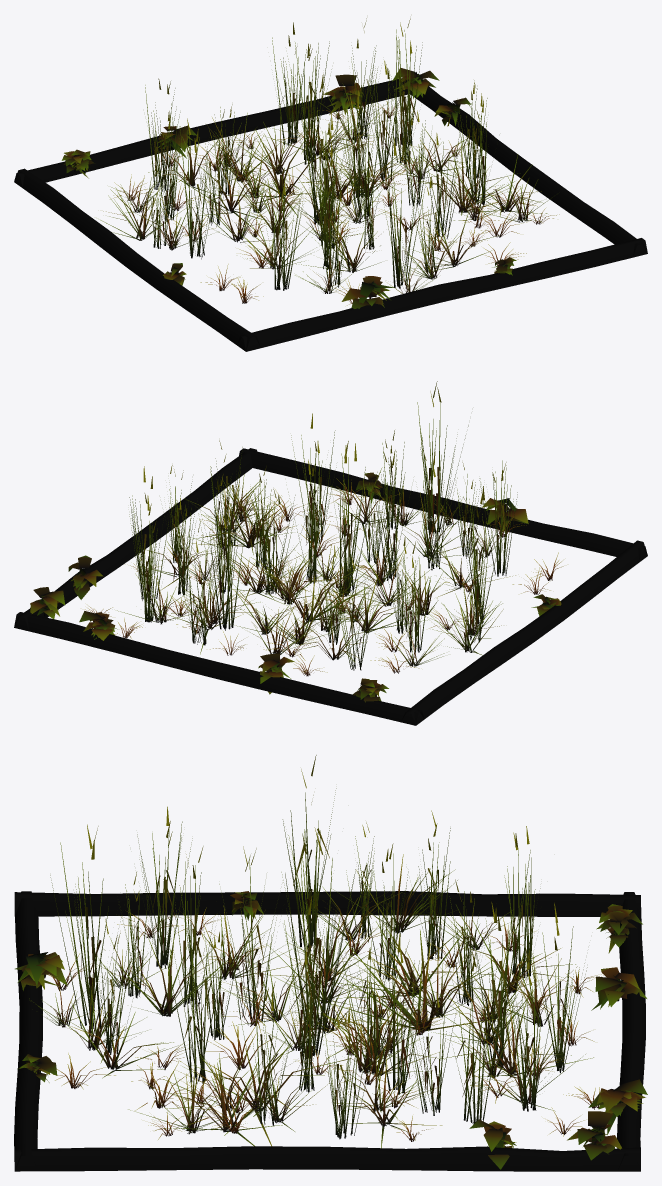
File: patch_paddy_fallow.glb
3 renders of one model, top to bottom at view 1: azimuth 30°, elevation 25°; view 2: azimuth 150°, elevation 25°; view 3: azimuth 270°, elevation 25°, orthographic. The views are drawn at different scales.
Parts seen in each view (by area): view 1: patch_paddy_fallow; view 2: patch_paddy_fallow; view 3: patch_paddy_fallow.
Part boxes in pixels (x1,y1,x2,y2): patch_paddy_fallow: [14, 18, 647, 351]; patch_paddy_fallow: [14, 381, 647, 725]; patch_paddy_fallow: [14, 755, 647, 1171].
Size of the model in its own units: 12.17 by 4.66 by 12.14.
1 material, 1 textured.
